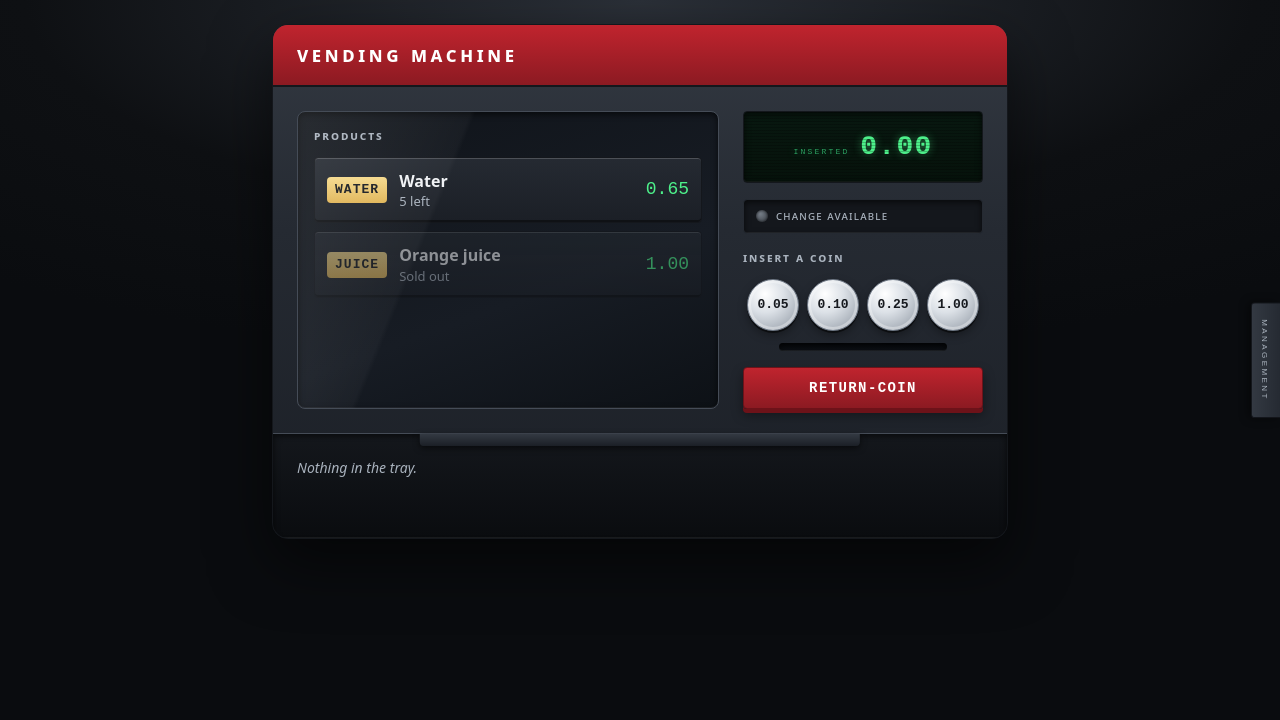
MachinePage › names the field the machine refused, rather than relaying its prose
The width and height of the screenshot is (1280, 720).
Expected: the button "WATER Water 0.65 5 left" is shown, [314,157,702,223]
What coordinates should you click on to do the following:
click the button "Management"
I would click on:
 (1266, 360)
Its box is [1251,302,1279,418].
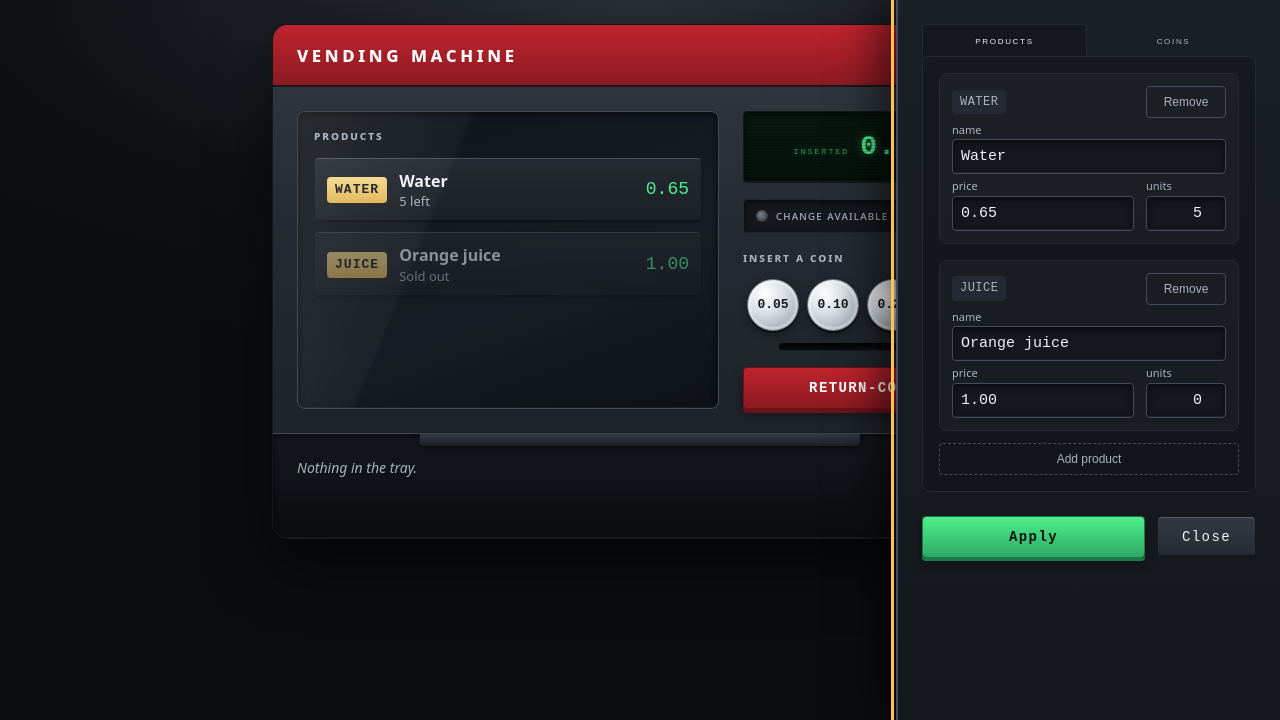
What coordinates should you click on to do the following:
click the button "Apply"
I would click on:
 (1034, 537)
Its box is [922,516,1145,558].
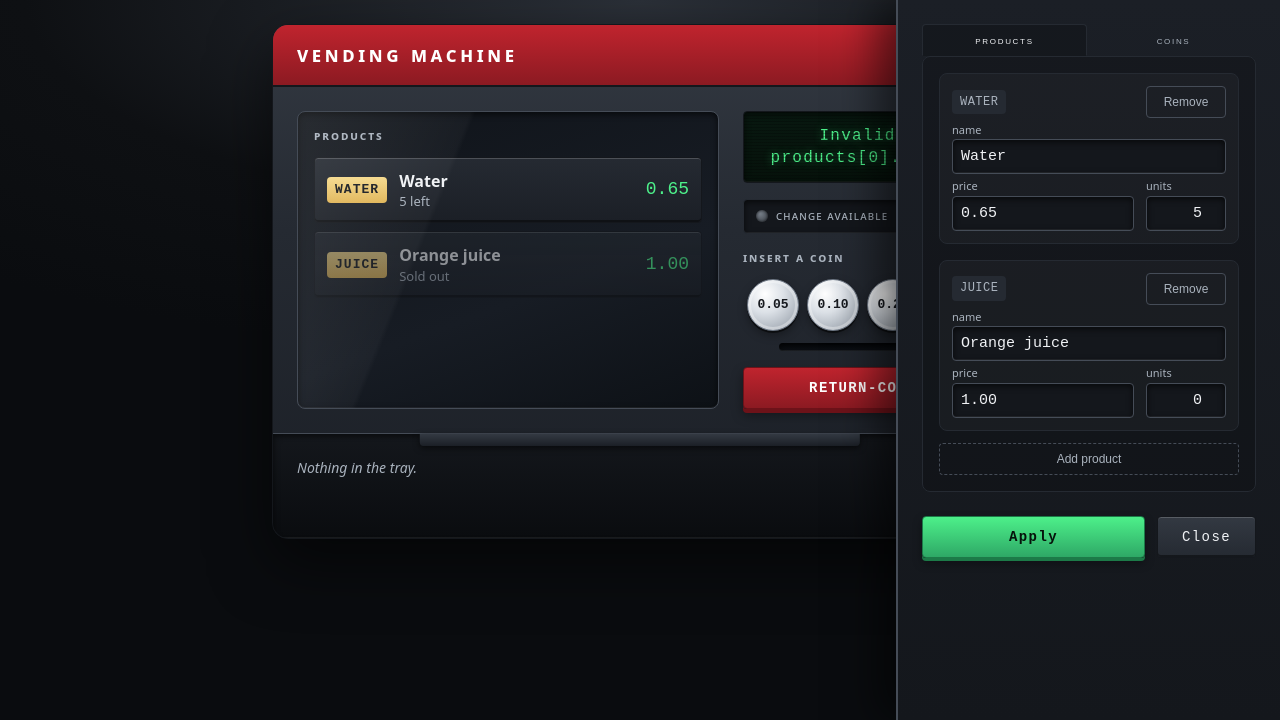
Result: the text "Invalid: products[0].count" is shown at [743,111,983,183]
